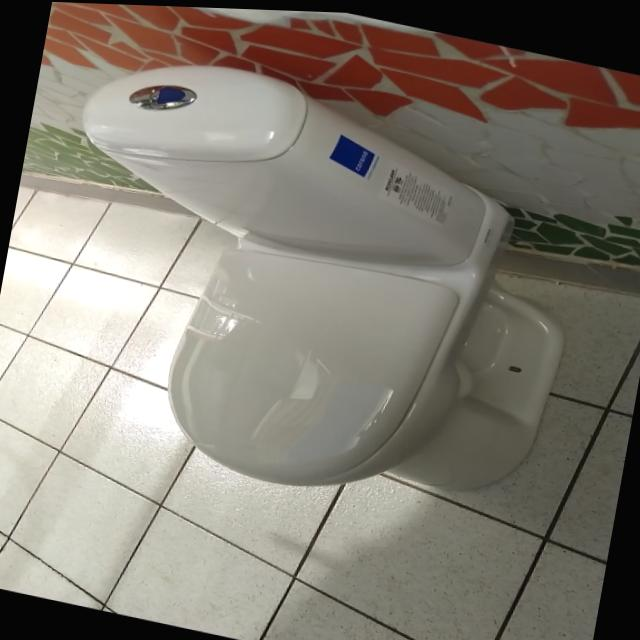toilet: (24, 34, 598, 536)
